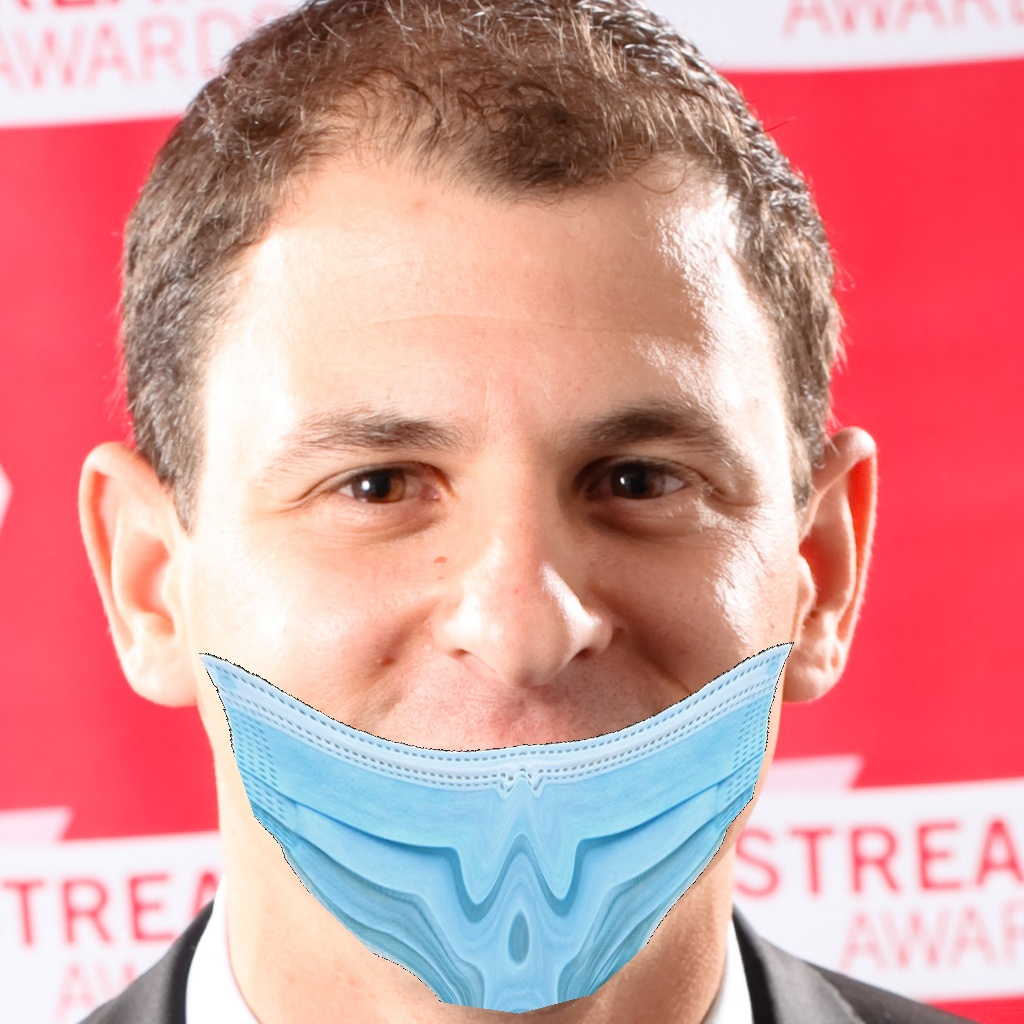mask_weared_incorrect: (171, 357, 829, 1023)
